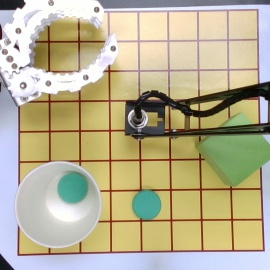cup_green: (15, 160, 111, 247)
green: (132, 189, 162, 219)
